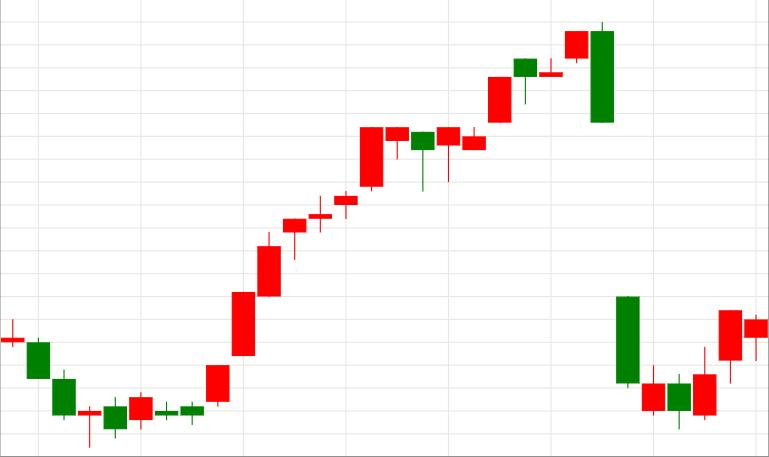bearish_engulfing_fall: (206, 21, 614, 407)
